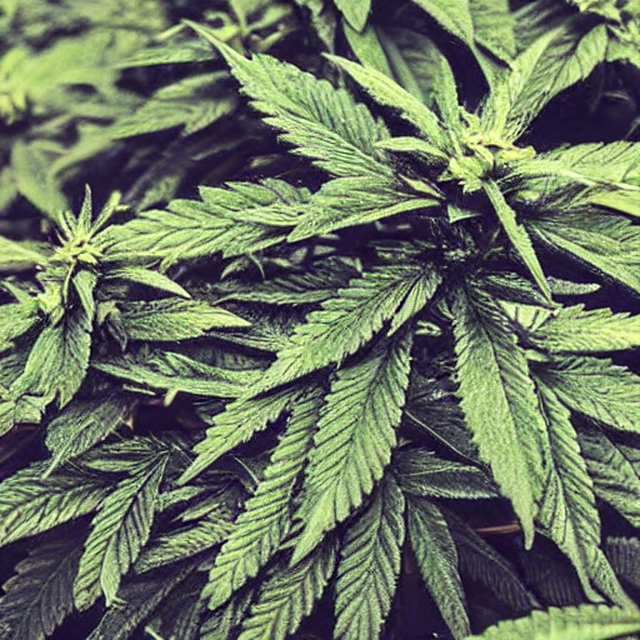Marijuana Plant: (35, 0, 610, 639)
